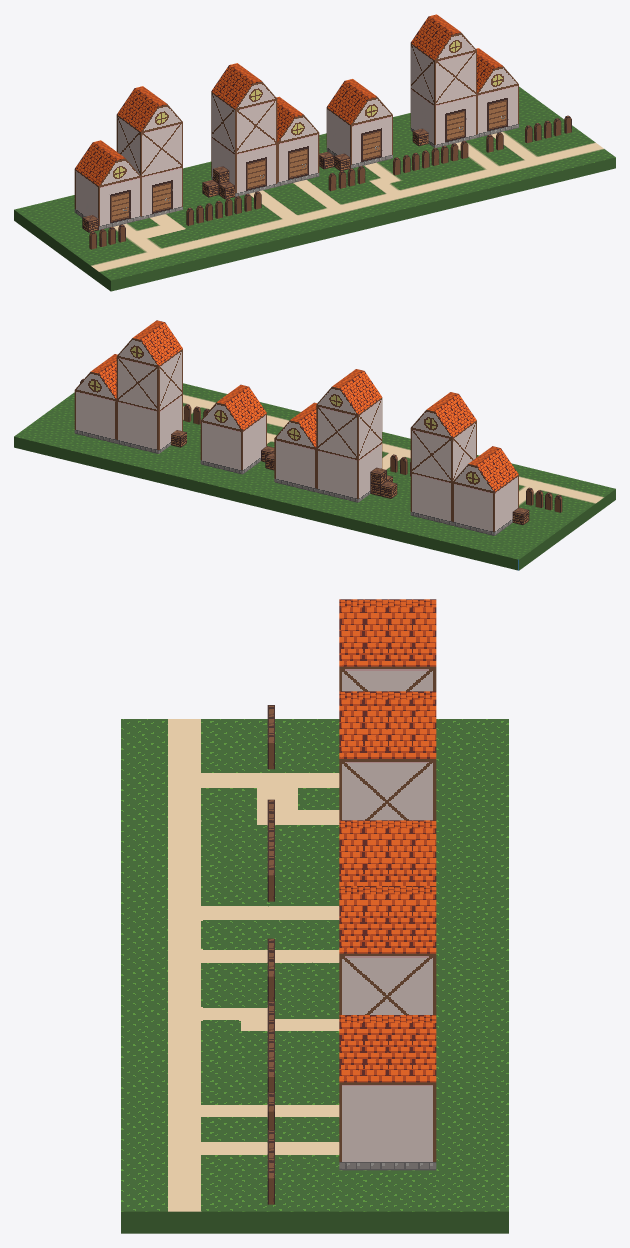
File: townscenegltf.gltf
3 views of the same model, one above another, from view 1: azimuth 30°, elevation 25°; view 2: azimuth 150°, elevation 25°; view 3: azimuth 270°, elevation 25° (orthographic). The views are drawn at different scales.
Parts seen in each view (by area): view 1: GrassPlane/Ground, cuboid (×3), house1top (×7), house1body (×4); view 2: GrassPlane/Ground, cuboid (×3), house1top (×7), house1body (×4); view 3: GrassPlane/Ground, house1top (×5), cuboid (×3), house1body.
Part boxes in pixels (x1=…): GrassPlane/Ground: x1=14, y1=86, x2=615, y2=291; cuboid (×3): x1=116, y1=43, x2=476, y2=219; house1top (×7): x1=75, y1=14, x2=518, y2=186; house1body (×4): x1=74, y1=84, x2=518, y2=230; GrassPlane/Ground: x1=14, y1=383, x2=615, y2=570; cuboid (×3): x1=116, y1=349, x2=476, y2=525; house1top (×7): x1=75, y1=320, x2=518, y2=491; house1body (×4): x1=74, y1=390, x2=518, y2=535; GrassPlane/Ground: x1=121, y1=719, x2=508, y2=1233; house1top (×5): x1=339, y1=599, x2=436, y2=1082; cuboid (×3): x1=339, y1=666, x2=436, y2=1014; house1body: x1=339, y1=1082, x2=436, y2=1170.
Bounding box in the file's own units: 48.12 × 11 × 16.
6 materials, 6 textured.
